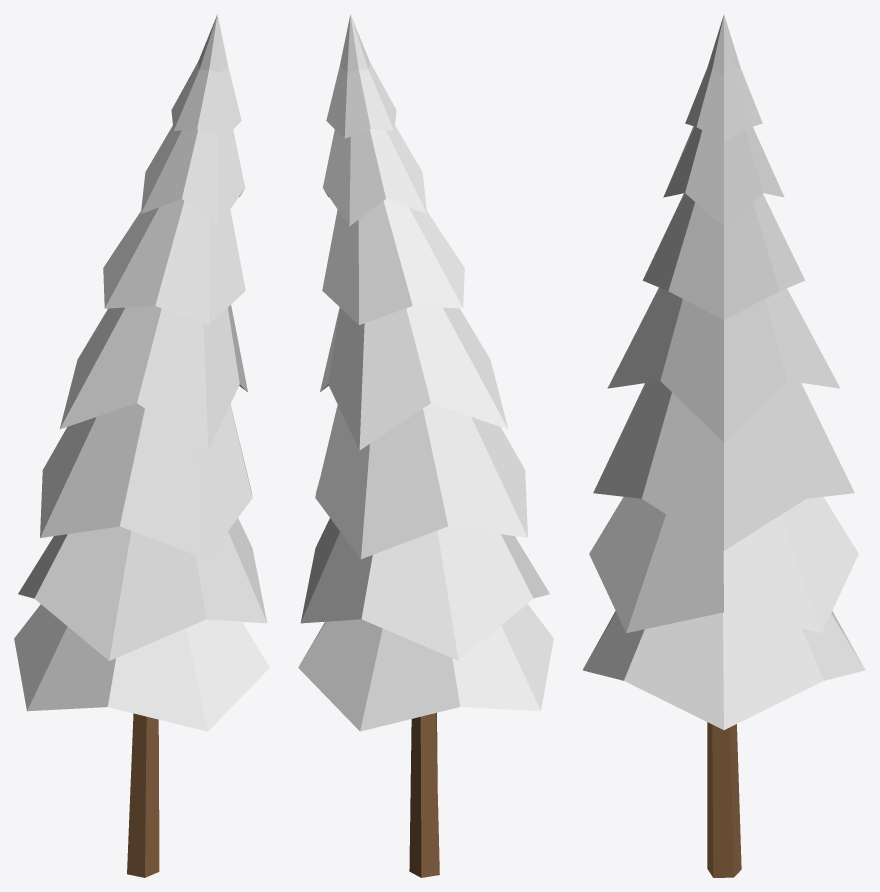
File: Pine_Tree_l_Snow_05.fbx
3 renders of one model, left to right at view 1: azimuth 30°, elevation 25°; view 2: azimuth 150°, elevation 25°; view 3: azimuth 270°, elevation 25°, orthographic. The views are drawn at different scales.
Visible parts, largest first — view 1: Pine_Tree_l_Snow_05; view 2: Pine_Tree_l_Snow_05; view 3: Pine_Tree_l_Snow_05.
Boxes of the visible parts, x1,y1,x2,y2 form: Pine_Tree_l_Snow_05: (14, 14, 269, 877); Pine_Tree_l_Snow_05: (298, 14, 553, 877); Pine_Tree_l_Snow_05: (583, 15, 864, 877).
Bounding box in the file's own units: 558 × 1950 × 558.
